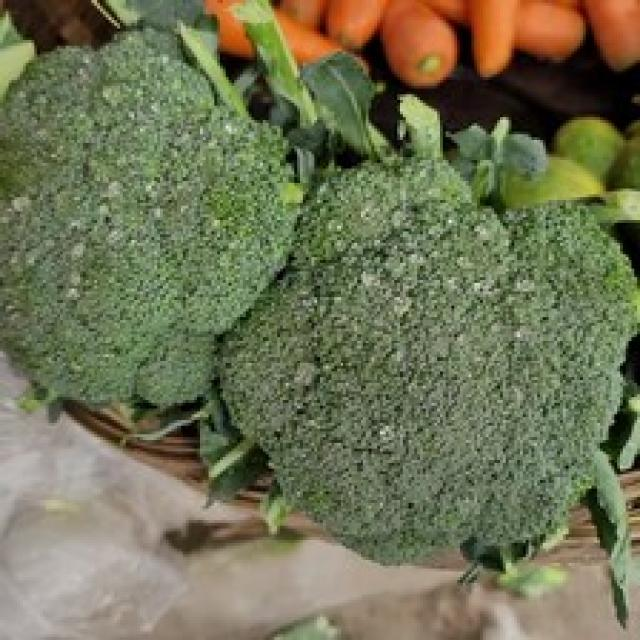Broccoli: (219, 159, 634, 561), (220, 161, 636, 561), (0, 30, 300, 406), (0, 29, 300, 404)
